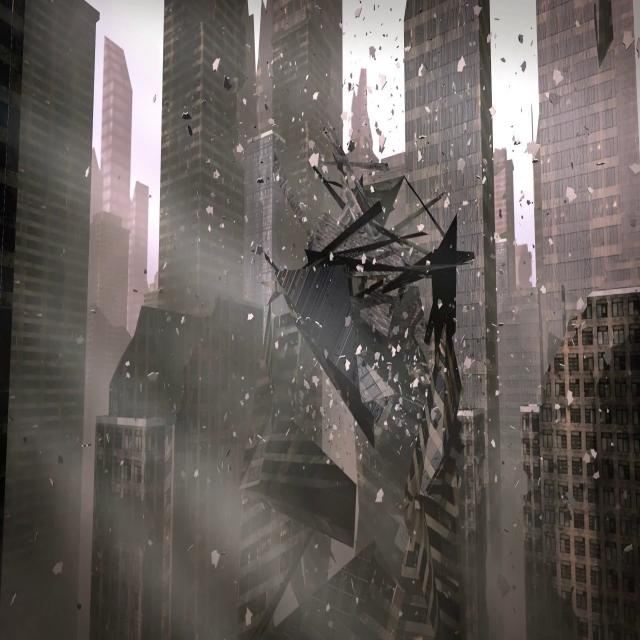collapsed_building: (290, 152, 456, 640), (95, 302, 262, 640), (524, 290, 640, 639)
